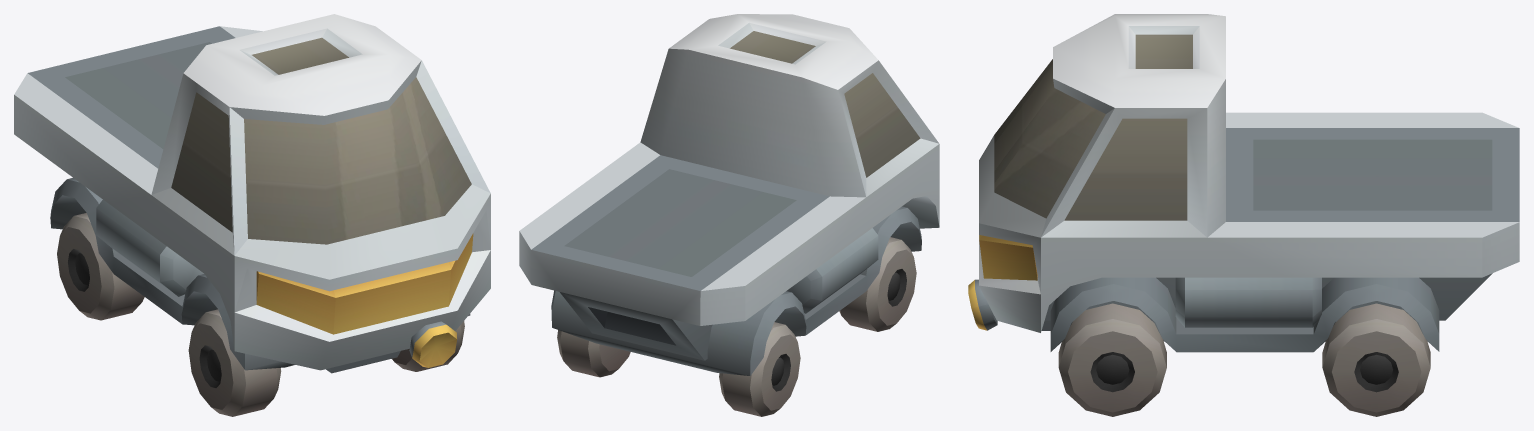
The model's file is truck.glb.
3 views of the same model, side by side, from view 1: azimuth 30°, elevation 25°; view 2: azimuth 150°, elevation 25°; view 3: azimuth 270°, elevation 25° (orthographic). The views are drawn at different scales.
Parts seen in each view (by area): view 1: Cube.15125, spacetruck_wheel_front_right, spacetruck_wheel_rear_right, spacetruck_wheel_front_left; view 2: Cube.15125, spacetruck_wheel_rear_right, spacetruck_wheel_front_right, spacetruck_wheel_rear_left; view 3: Cube.15125, spacetruck_wheel_front_left, spacetruck_wheel_rear_left.
Boxes of the visible parts, box(x1,y1,x2,y2) form: Cube.15125: box(14, 14, 490, 373); spacetruck_wheel_front_right: box(188, 309, 281, 416); spacetruck_wheel_rear_right: box(57, 213, 144, 320); spacetruck_wheel_front_left: box(392, 321, 464, 371); Cube.15125: box(519, 14, 939, 375); spacetruck_wheel_rear_right: box(719, 322, 800, 416); spacetruck_wheel_front_right: box(839, 237, 916, 331); spacetruck_wheel_rear_left: box(557, 330, 630, 377); Cube.15125: box(968, 14, 1519, 352); spacetruck_wheel_front_left: box(1058, 303, 1166, 416); spacetruck_wheel_rear_left: box(1322, 303, 1430, 416).
Bounding box in the file's own units: 0.4895 × 0.5662 × 0.8933.
Materials: 1 (1 with a texture image).
